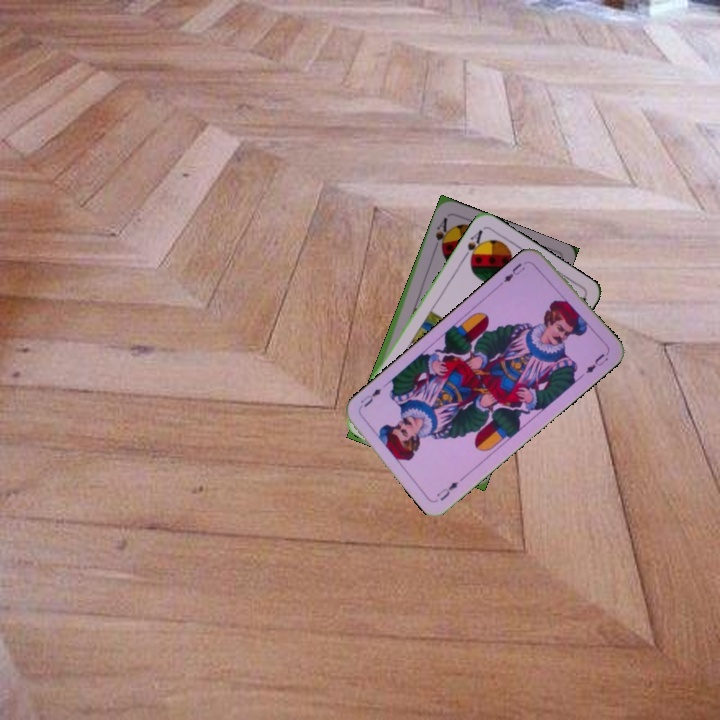EU: (432, 472, 467, 504), (496, 259, 528, 287)
SA: (459, 225, 487, 265), (431, 213, 452, 253)
